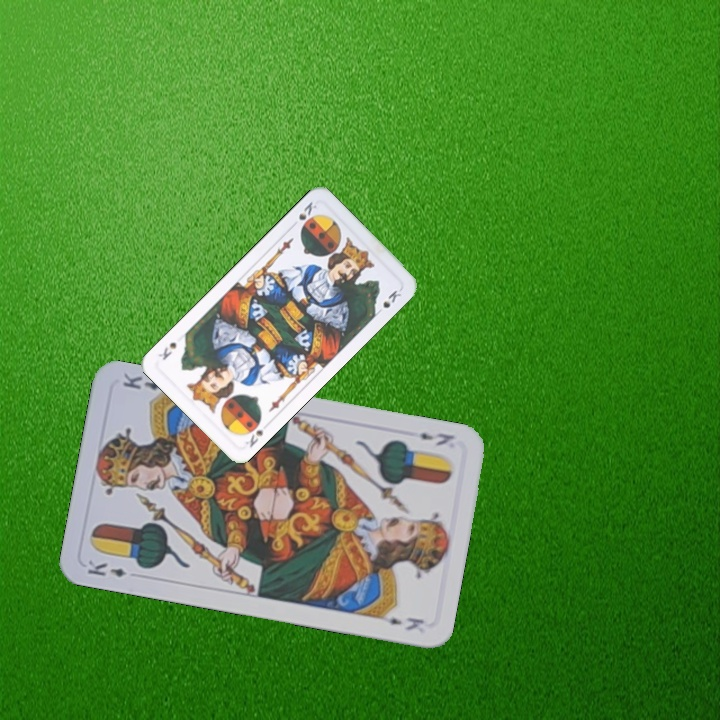EK: (83, 556, 129, 580), (416, 428, 457, 449)
SK: (295, 197, 319, 223), (241, 426, 266, 450)
